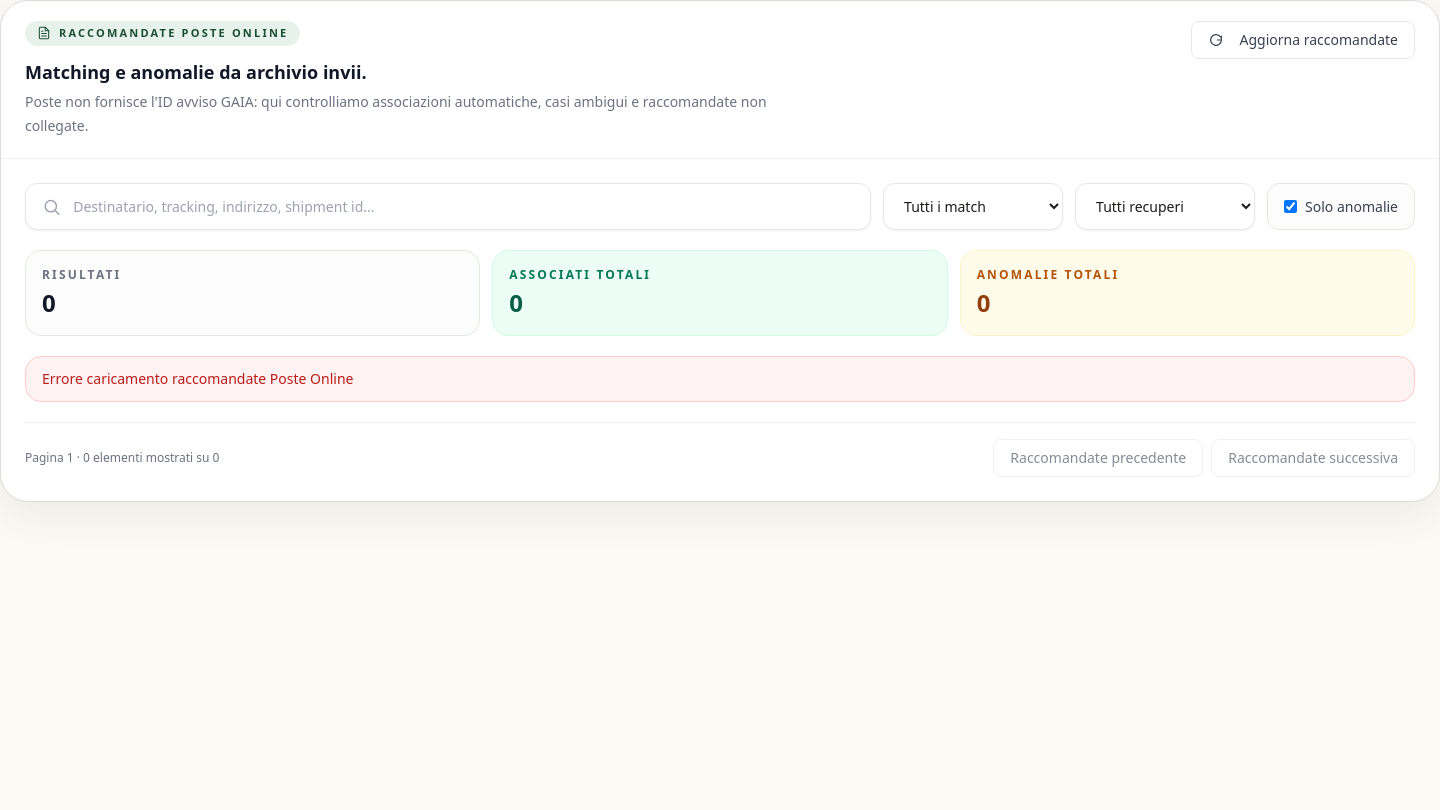
Test: RegisteredMailsConsole › shows fallback error text for non-error failures and unknown statuses
Check: the text "Errore caricamento raccomandate Poste Online" is shown, box [25, 356, 1415, 402]
Click the button "Aggiorna raccomandate" at (1303, 40), box [1190, 21, 1415, 59]
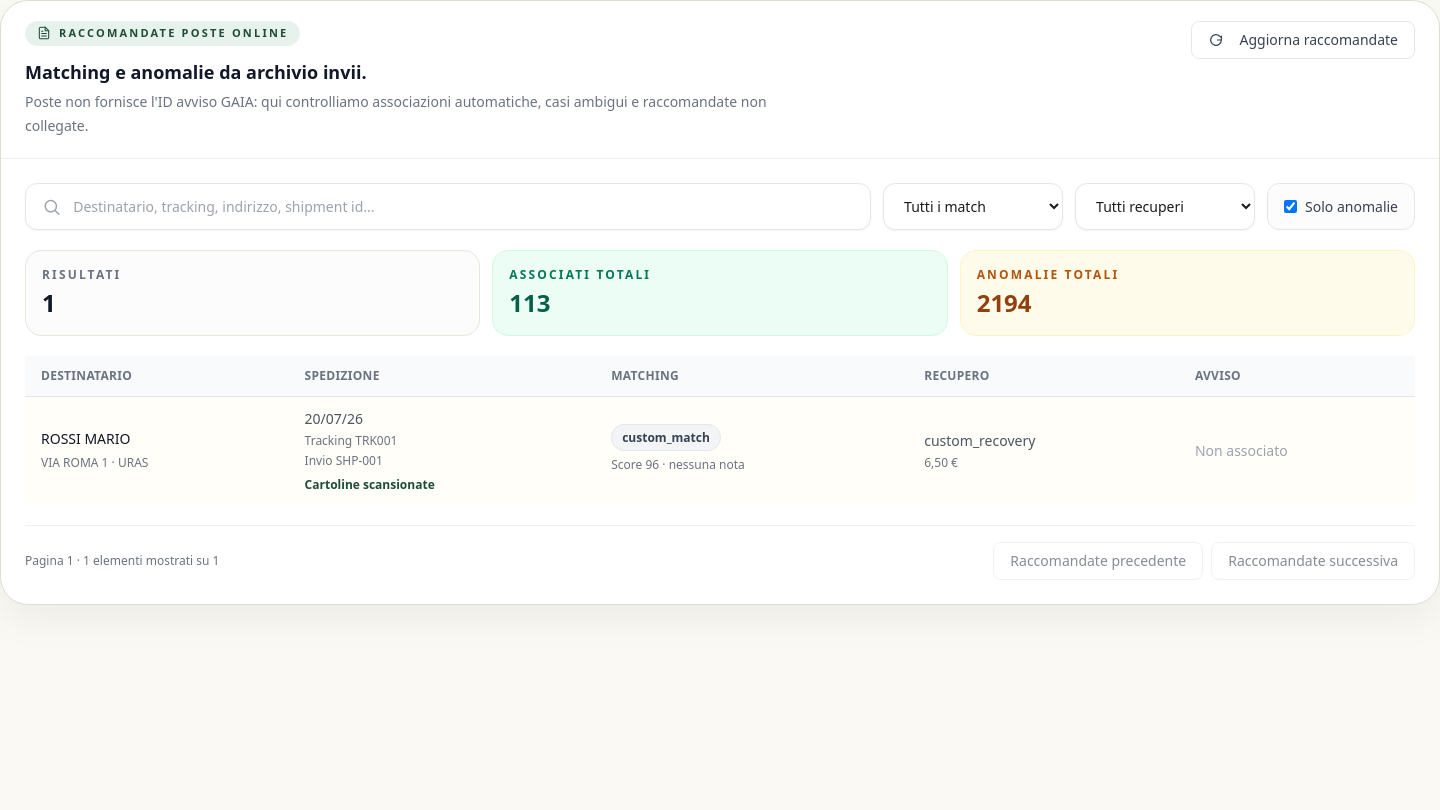
Check: the text "custom_match" is shown, box [611, 424, 721, 451]
Check: the text "custom_recovery" is shown, box [924, 431, 1035, 450]
Check: the text "Score 96 · nessuna nota" is shown, box [611, 456, 745, 473]
